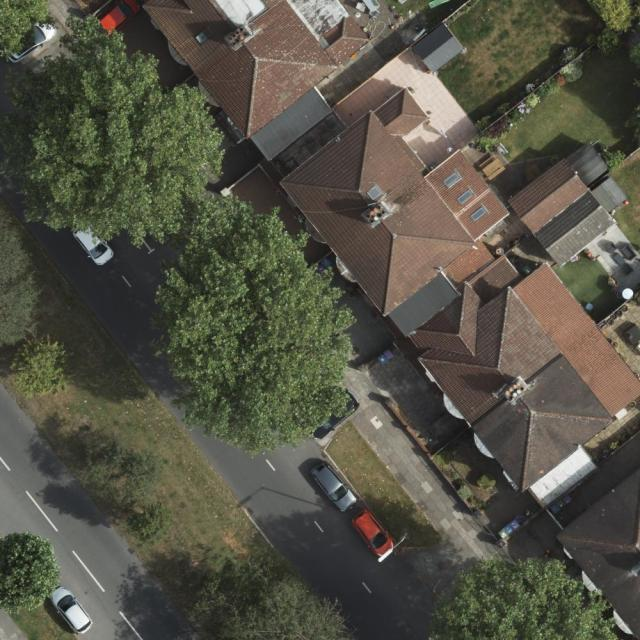roof: (280, 86, 640, 509), (141, 0, 372, 162), (508, 142, 627, 270), (556, 464, 640, 639)
skylight: (441, 167, 463, 190), (456, 187, 475, 205), (469, 204, 488, 222), (367, 186, 384, 201), (194, 31, 210, 43)
